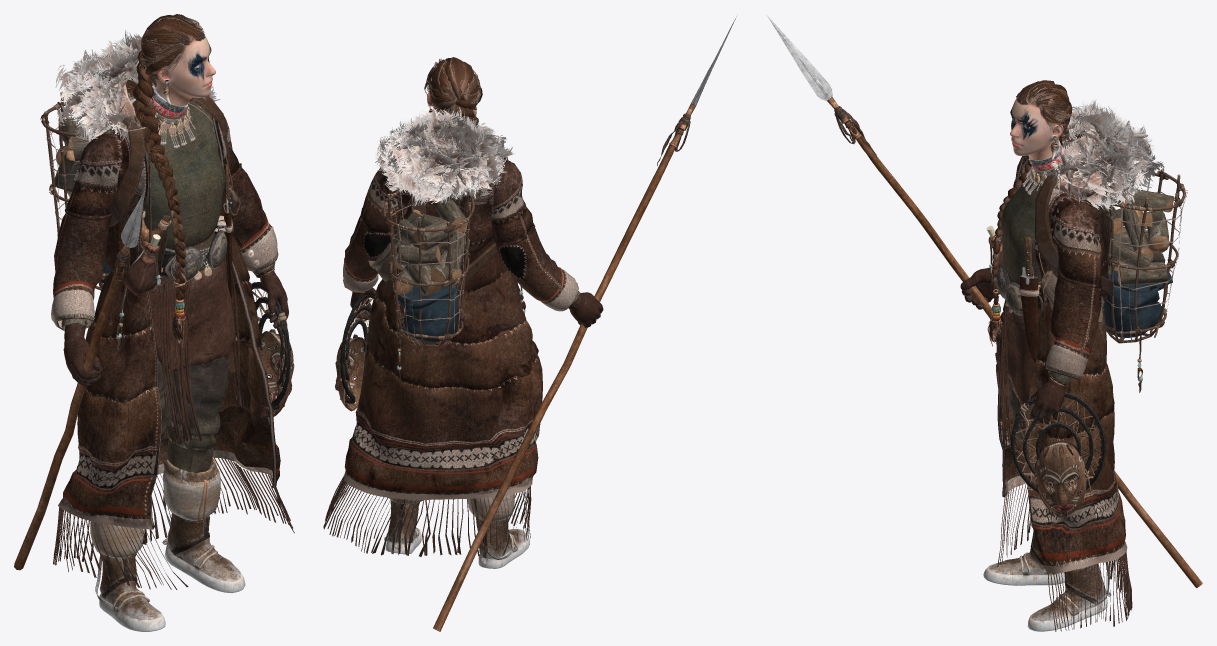
File: Winter Girl.obj
3 renders of one model, left to right at view 1: azimuth 30°, elevation 25°; view 2: azimuth 150°, elevation 25°; view 3: azimuth 270°, elevation 25°, orthographic. The views are drawn at different scales.
Visible parts, largest first — view 1: Coat, Skirt_Trousers, Shoes, Chest, Hair, Coat_Fur_Hair_cards_02.011, Luggage, Tools_Spear, Mask, Head, Arms, Accessoires (+3 smaller); view 2: Coat, Luggage, Coat_Fur_Hair_cards_02.011, Tools_Spear, Skirt_Trousers, Shoes, Hair, Mask, Arms; view 3: Coat, Luggage, Coat_Fur_Hair_cards_02.011, Skirt_Trousers, Mask, Shoes, Tools_Spear, Chest, Hair, Head, Arms, Tools_Knife_02 (+2 smaller).
Part boxes in pixels (x1,y1,x2,y2): Coat: [51, 64, 280, 529]; Skirt_Trousers: [53, 232, 294, 589]; Shoes: [90, 457, 245, 631]; Chest: [141, 100, 227, 281]; Hair: [132, 14, 205, 347]; Coat_Fur_Hair_cards_02.011: [55, 30, 220, 143]; Luggage: [40, 92, 240, 290]; Tools_Spear: [14, 190, 145, 570]; Mask: [252, 282, 294, 416]; Head: [135, 28, 215, 134]; Arms: [61, 120, 288, 387]; Accessoires: [151, 80, 274, 522]; Coat: [343, 135, 578, 499]; Luggage: [368, 149, 508, 347]; Coat_Fur_Hair_cards_02.011: [375, 104, 514, 205]; Tools_Spear: [433, 16, 736, 631]; Skirt_Trousers: [323, 476, 531, 556]; Shoes: [384, 493, 529, 568]; Hair: [424, 57, 482, 126]; Mask: [335, 295, 373, 411]; Arms: [350, 287, 603, 327]; Coat: [995, 127, 1127, 573]; Luggage: [1016, 135, 1187, 343]; Coat_Fur_Hair_cards_02.011: [1045, 100, 1164, 210]; Skirt_Trousers: [997, 282, 1132, 631]; Mask: [1011, 392, 1105, 516]; Shoes: [983, 515, 1111, 631]; Tools_Spear: [767, 15, 1202, 587]; Chest: [996, 156, 1071, 315]; Hair: [987, 80, 1072, 346]; Head: [1010, 93, 1070, 175]; Arms: [960, 208, 1071, 422]; Tools_Knife_02: [1019, 275, 1043, 364].
Bounding box in the file's own units: 1.02 × 1.87 × 1.38.
